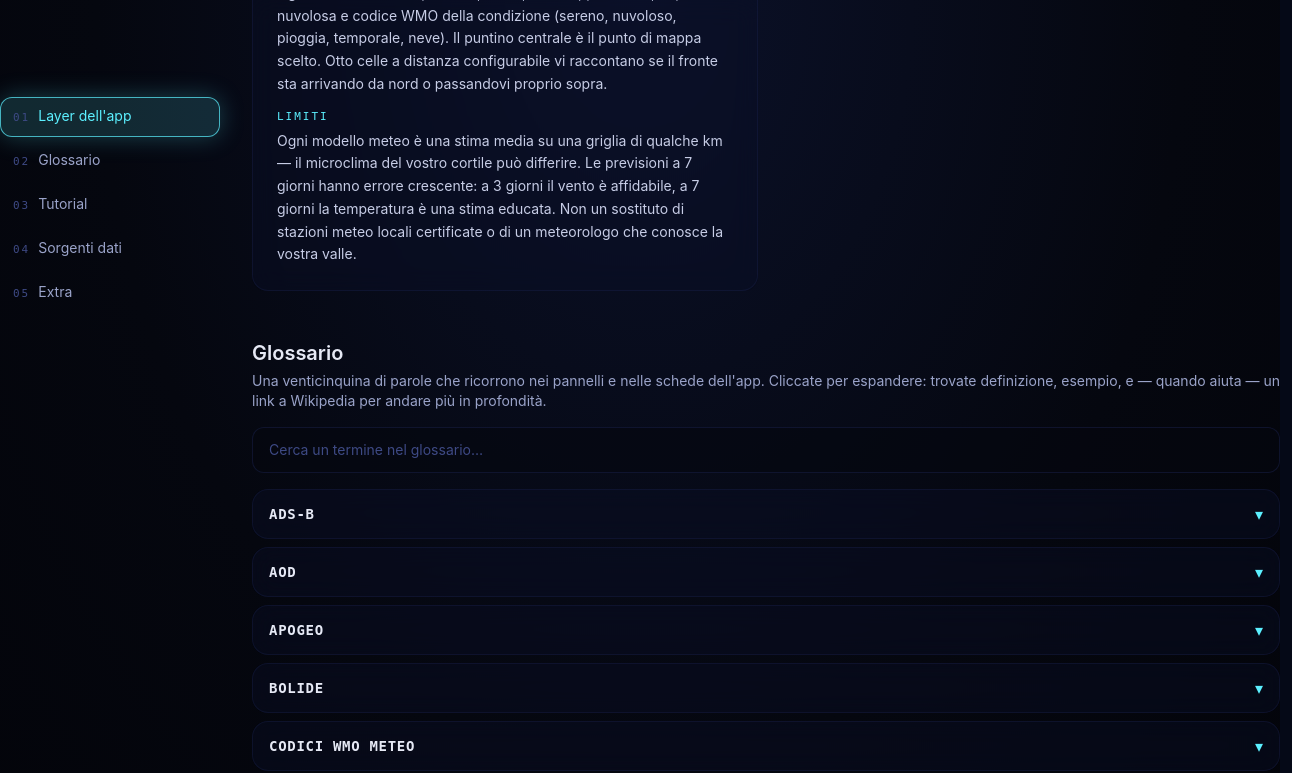
Test: Education page › shows the no-results message for an unmatched query
The image size is (1292, 773).
(page scrolled)
In the search field with placeholder "Cerca un termine nel glossario…": (766, 450) [252,427,1280,473], type "xxxzzzqqq-no-such-term"
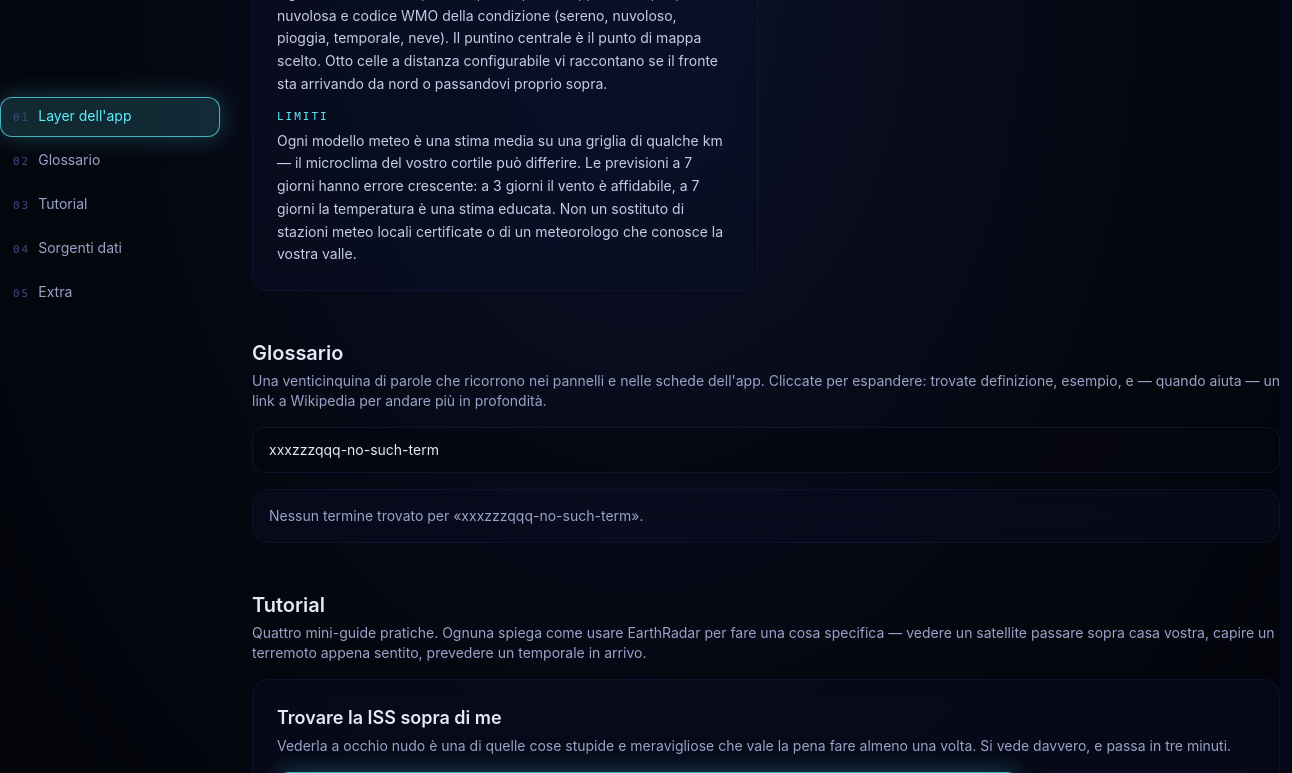
Expected: the text "Nessun termine trovato per «xxxzzzqqq-no-such-term»." is shown, [252,489,1280,543]
